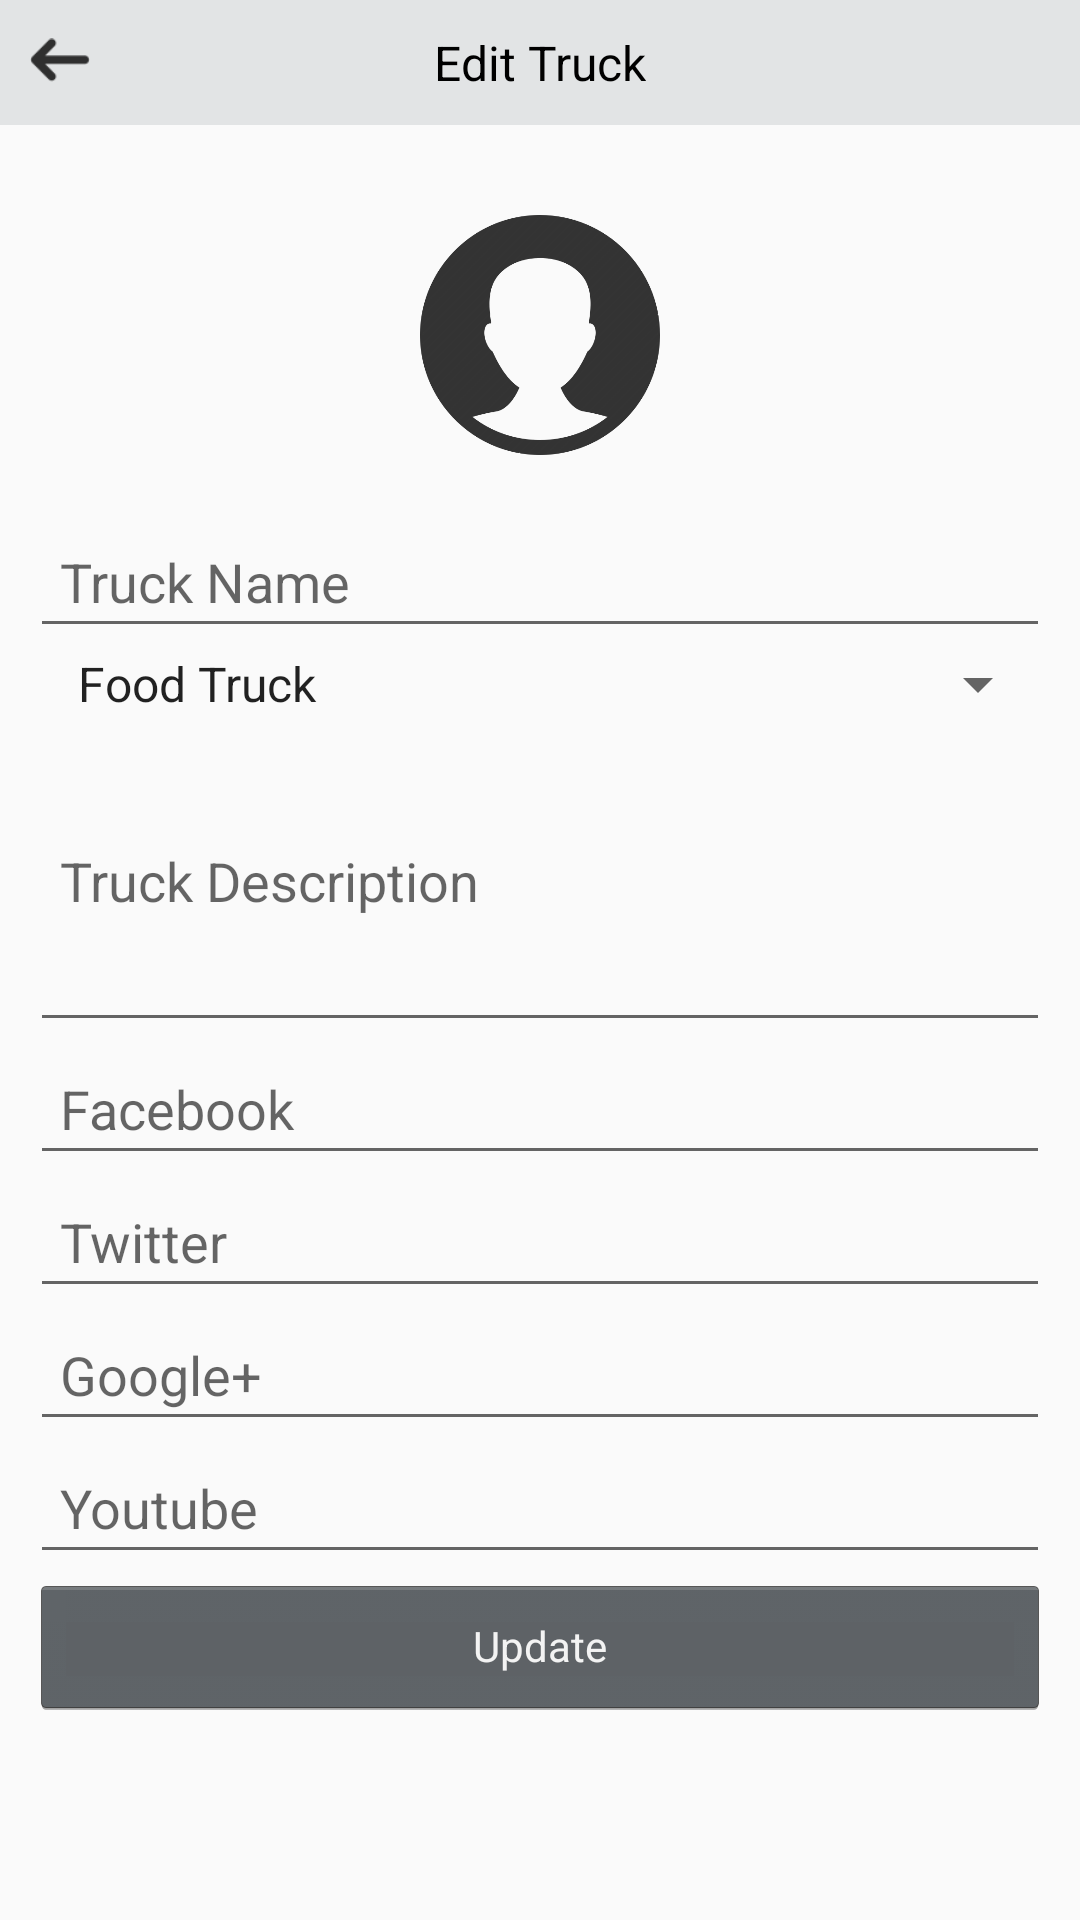

Where to tap for icons on this 1080×1920 app screen, as point (x, y):
back: point (60, 59)
profile: point (540, 335)
